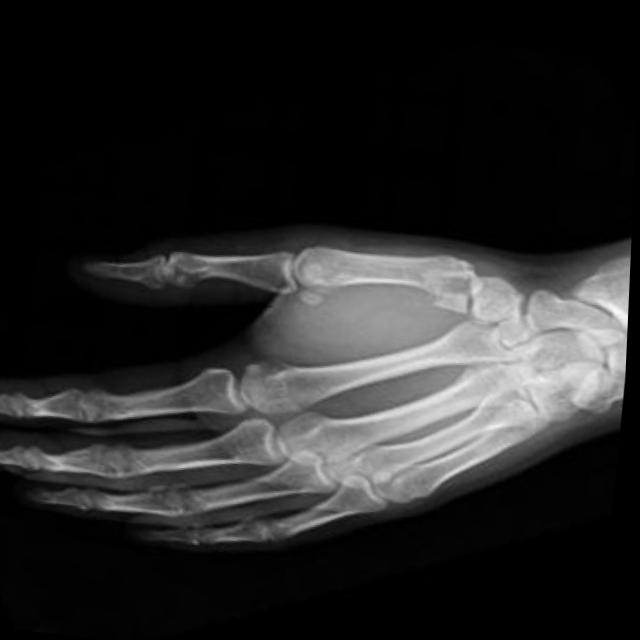fracture: (419, 267, 481, 310)
